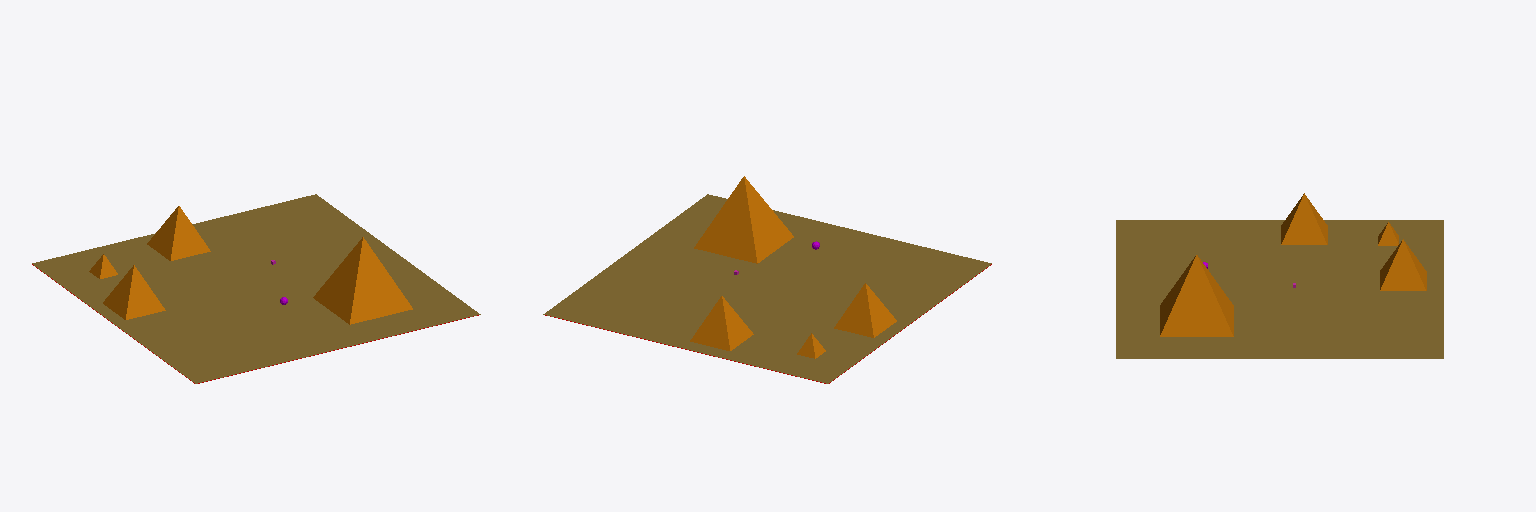
File: egypt.obj
3 renders of one model, left to right at view 1: azimuth 30°, elevation 25°; view 2: azimuth 150°, elevation 25°; view 3: azimuth 270°, elevation 25°, orthographic.
Visible parts, largest first — view 1: visGroundPlane, bigPyramid, pyramid2, pyramid1; view 2: visGroundPlane, bigPyramid, pyramid2, pyramid1; view 3: visGroundPlane, bigPyramid, pyramid2, pyramid1.
Part boxes in pixels (x1,y1,x2,y2): visGroundPlane: (32, 194, 480, 383); bigPyramid: (313, 237, 412, 324); pyramid2: (147, 206, 210, 260); pyramid1: (103, 265, 165, 319); visGroundPlane: (543, 194, 991, 383); bigPyramid: (694, 176, 793, 263); pyramid2: (690, 296, 753, 350); pyramid1: (834, 283, 896, 337); visGroundPlane: (1116, 220, 1443, 358); bigPyramid: (1160, 255, 1233, 336); pyramid2: (1380, 239, 1426, 290); pyramid1: (1281, 193, 1327, 244).
Bounding box in the file's own units: 310 × 70.35 × 310.